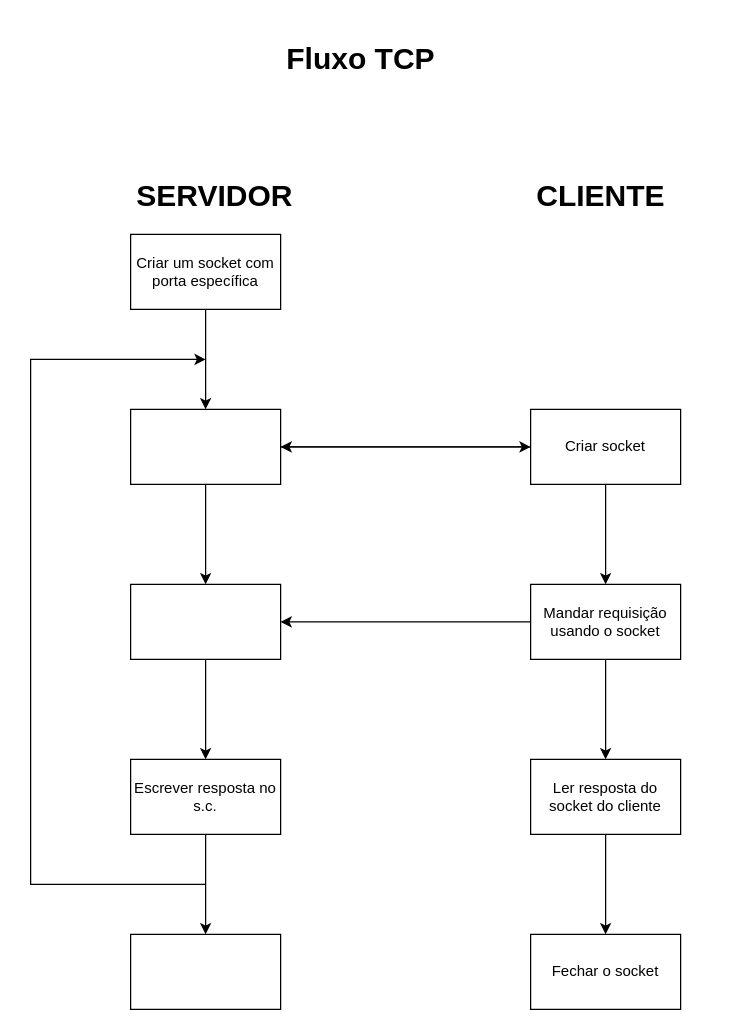
The diagram is 748 pixels wide and 1031 high, and some of its shapes have lost their labels. The centre of each missing label's shape, as x and y in pixels:
"Espera pelo pedido de coonexão, gerar o socket de conexão(s.c.)" belongs at (x=205, y=446).
"Fechar conexão" belongs at (x=205, y=971).
"Ler a requisição do socket de conexão" belongs at (x=205, y=621).
